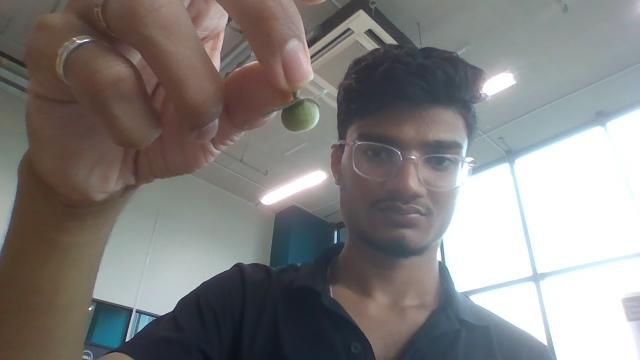Fruit Maturation: (281, 97, 320, 133)
